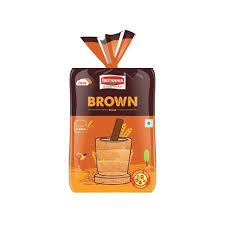bread: (66, 26, 163, 203)
